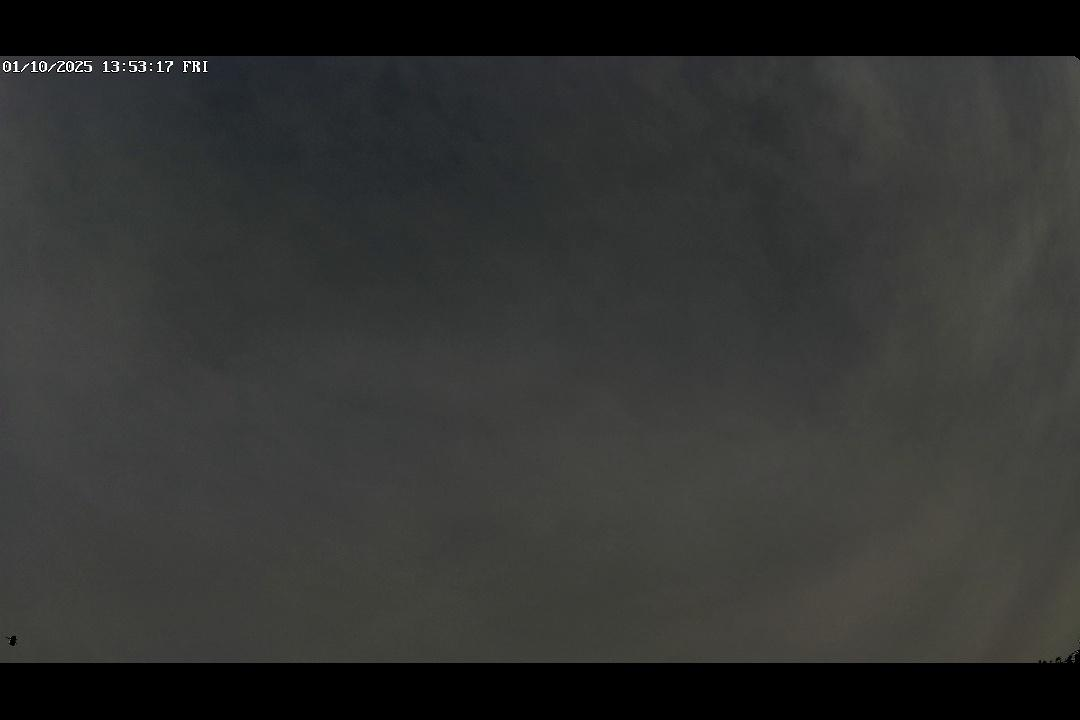WildLife: (0, 626, 33, 658)
